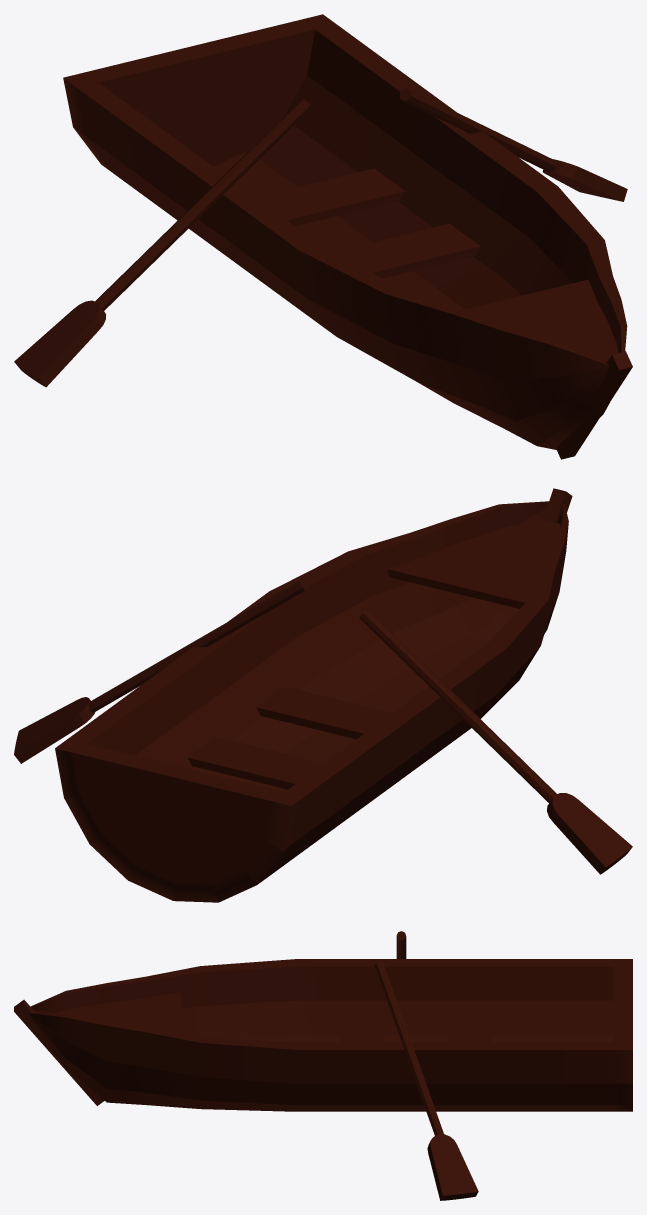
File: boat.FBX
3 views of the same model, one above another, from view 1: azimuth 30°, elevation 25°; view 2: azimuth 150°, elevation 25°; view 3: azimuth 270°, elevation 25° (orthographic). The views are drawn at different scales.
Parts seen in each view (by area): view 1: headusOBJexport006; view 2: headusOBJexport006; view 3: headusOBJexport006.
Boxes of the visible parts, x1=… form: headusOBJexport006: x1=14, y1=14, x2=632, y2=459; headusOBJexport006: x1=14, y1=488, x2=632, y2=902; headusOBJexport006: x1=14, y1=931, x2=632, y2=1200.
Size of the model in its own units: 2.66 by 0.8711 by 3.16.
